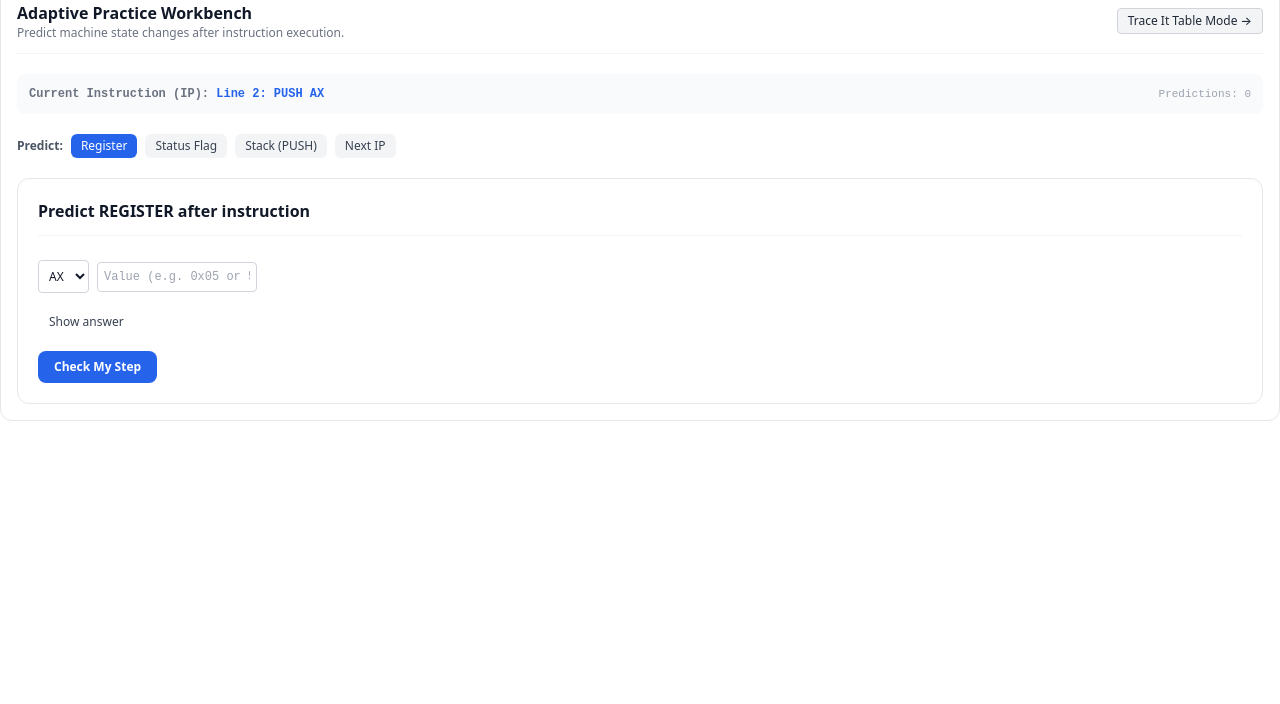
Test: CpuPractice › diagnoses wrong-push-order when predicting write at old SP before decrement
The width and height of the screenshot is (1280, 704).
Note: Switch to Stack prediction mode
Click the button "Stack (PUSH)". click: (281, 146)
box: [235, 134, 327, 158]
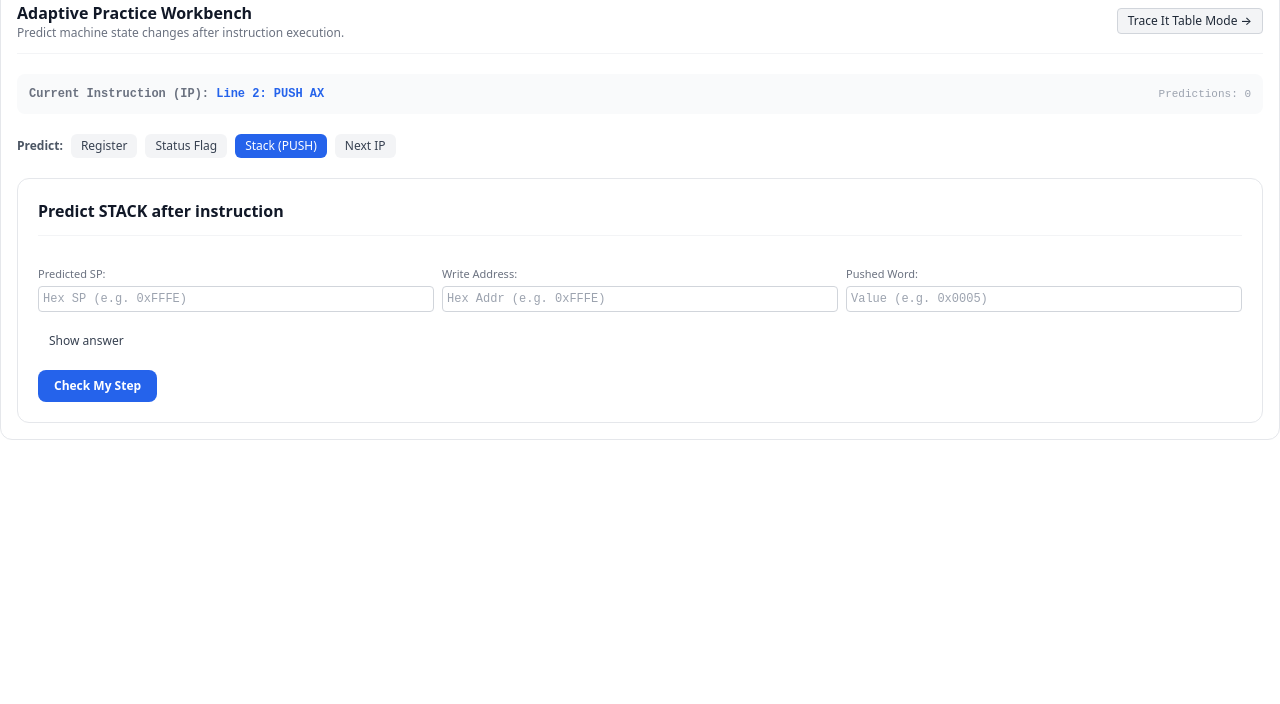
Type "0xFFFC" into the field labelled "Predicted SP:". click: (236, 299)
box: [38, 286, 434, 312]
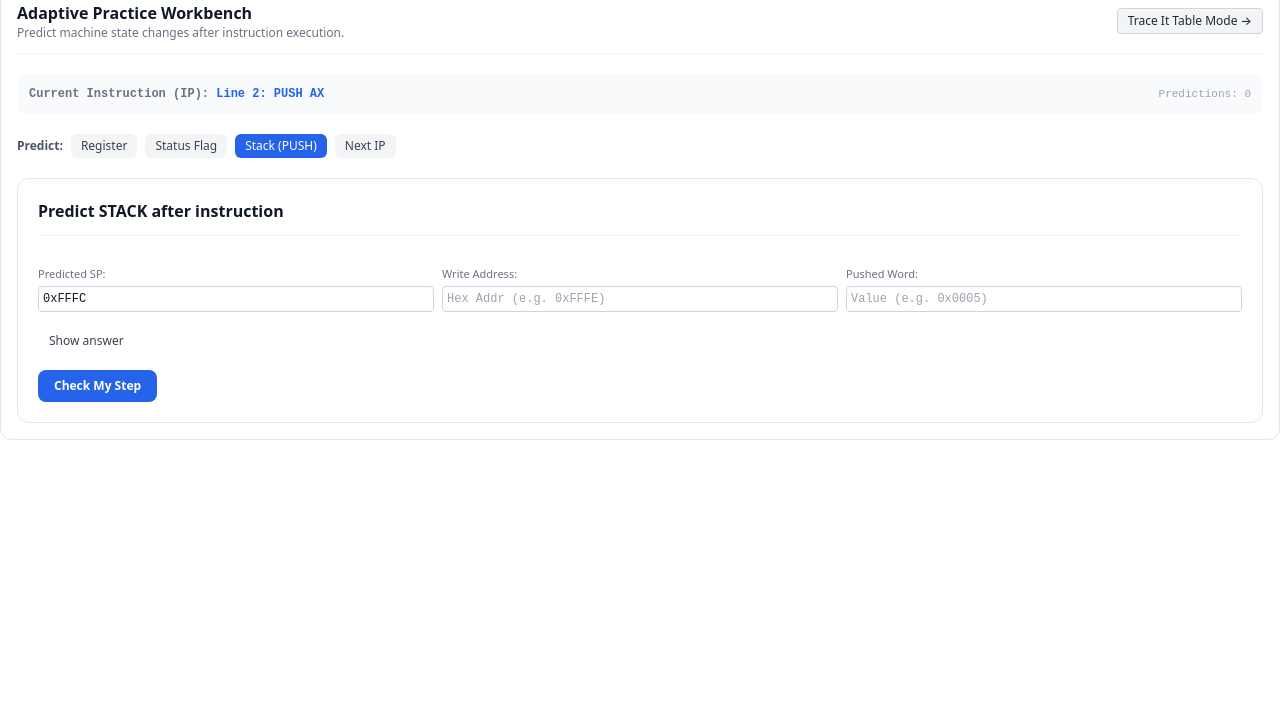
Type "0xFFFE" into the field labelled "Write Address:". click: (640, 299)
box: [442, 286, 838, 312]
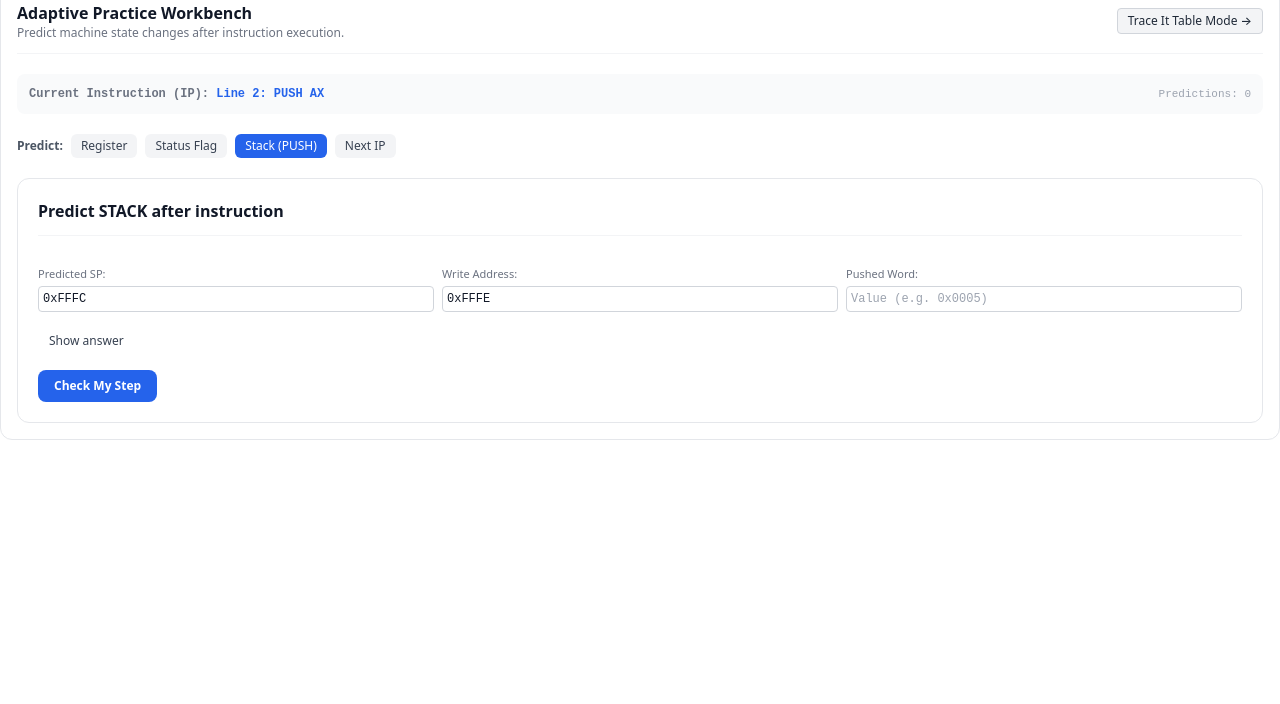
Type "0x1111" into the field labelled "Pushed Word:". click: (1044, 299)
box: [846, 286, 1242, 312]
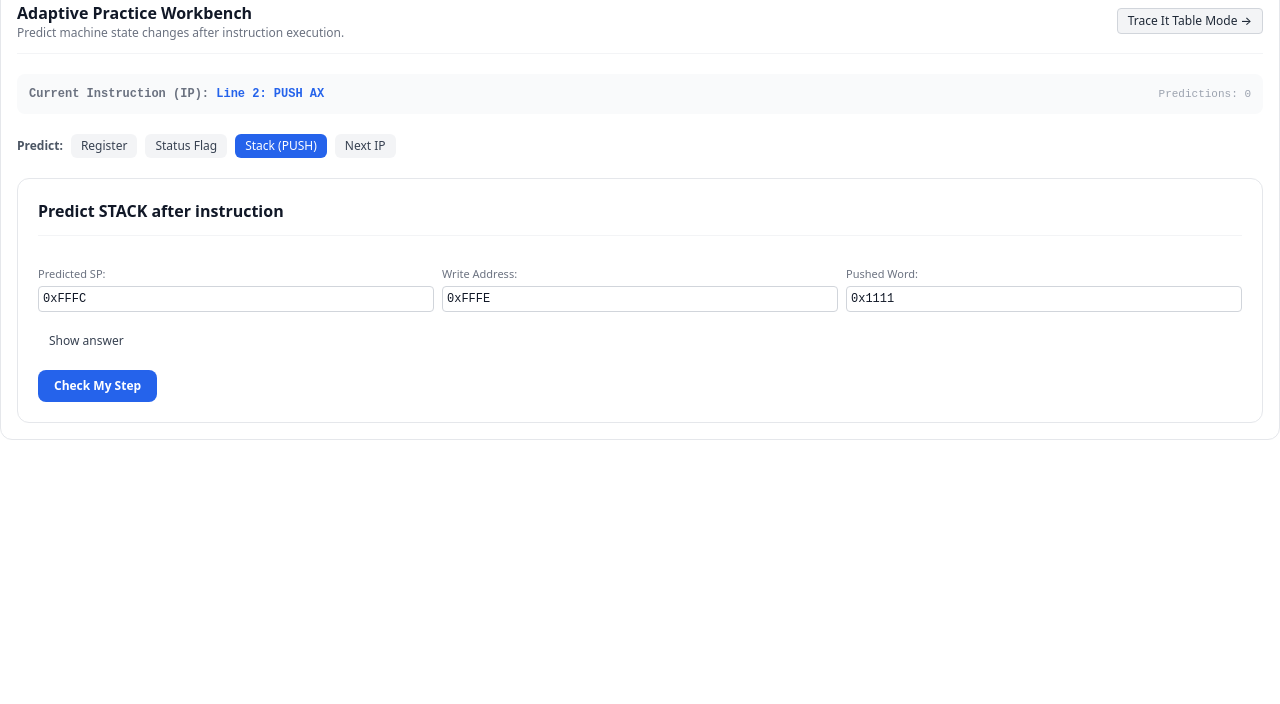
Note: Submit prediction via StepChecker Check My Step button
Click the button "Check My Step". click: (98, 386)
box: [38, 370, 157, 402]
(page scrolled)
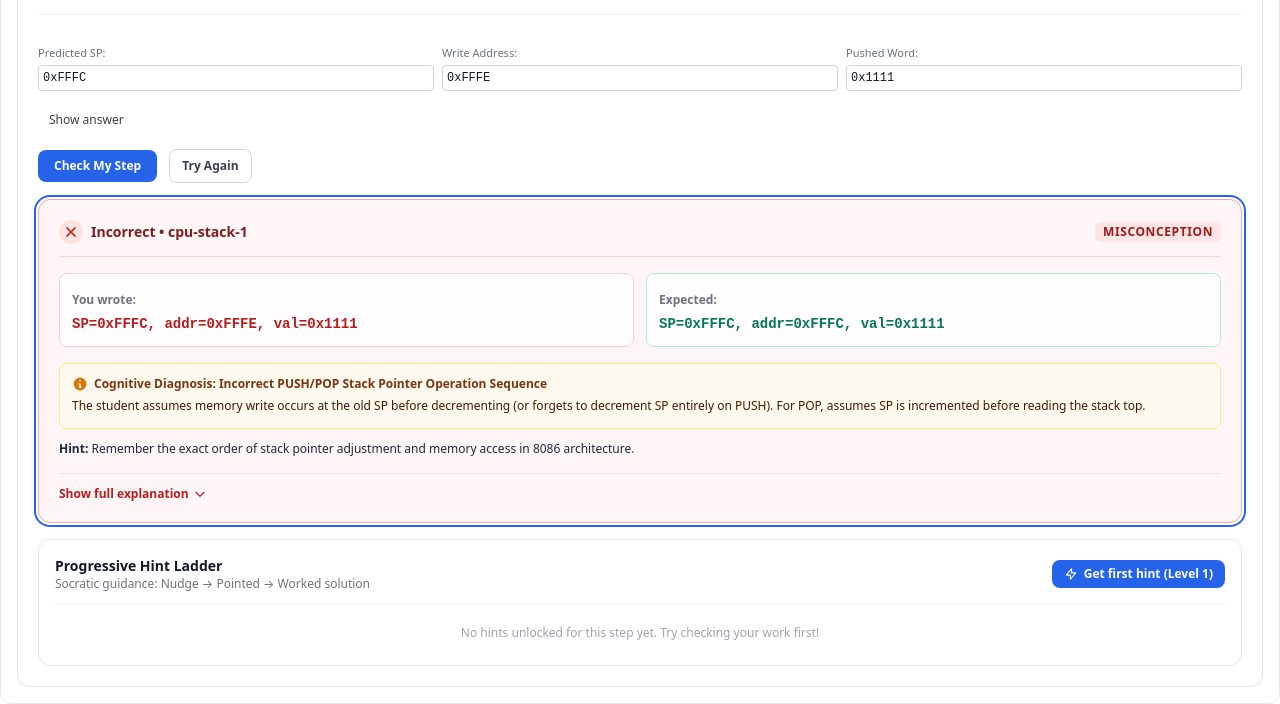
Expected: the text "Incorrect PUSH/POP Stack Pointer Operation Sequence" is shown, [219, 375, 547, 392]
Note: Request Hint 1
Click the button with aria-label "Unlock hint level 1". click: (1138, 574)
box: [1052, 560, 1225, 588]
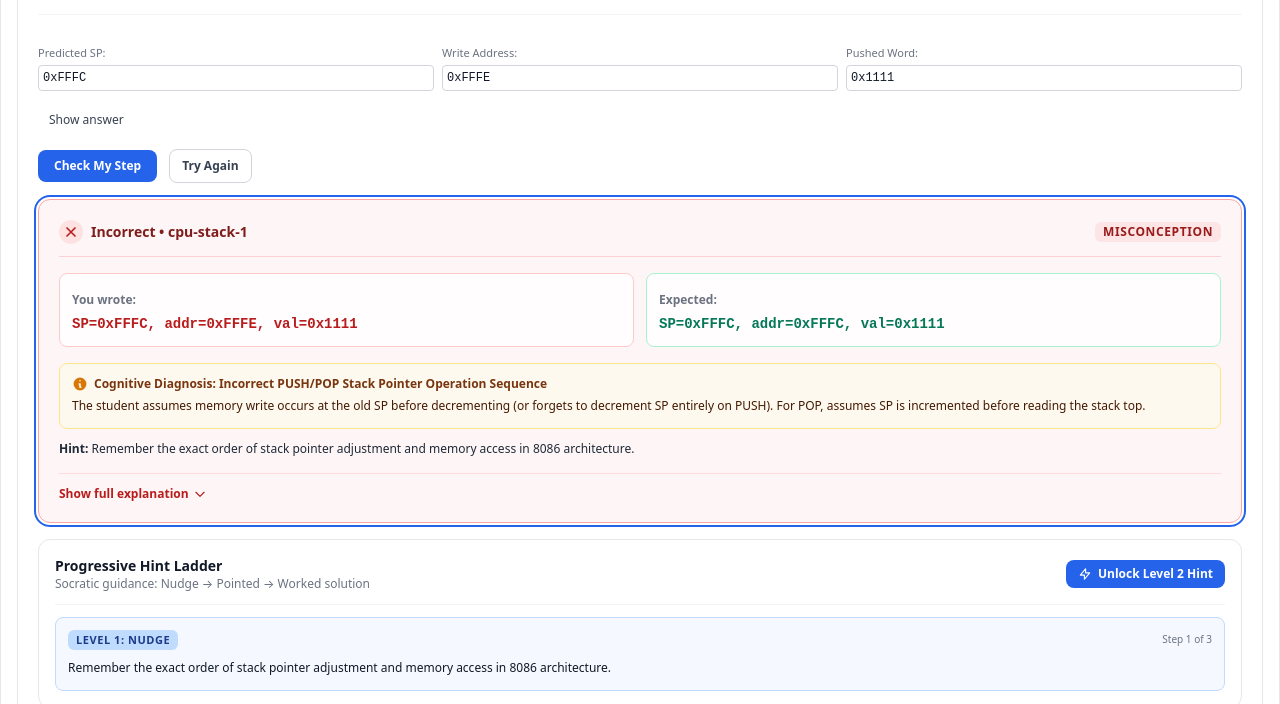
Expected: the text "Level 1: Nudge" is shown, [68, 630, 178, 650]
